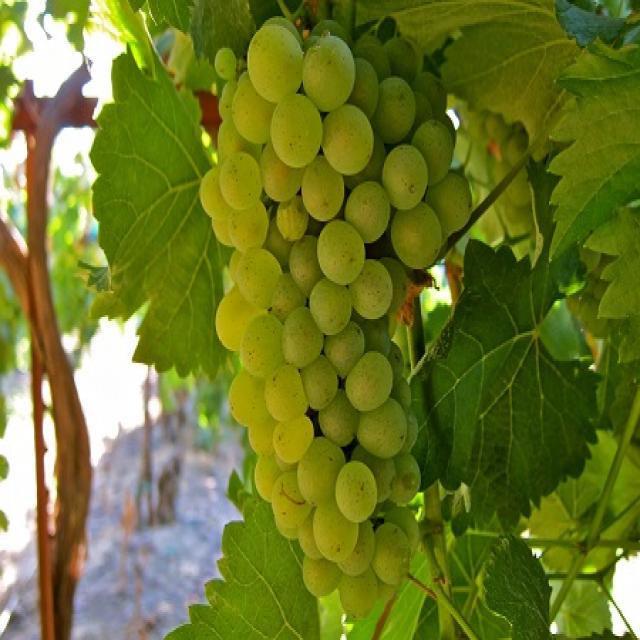grape: (195, 16, 478, 622)
